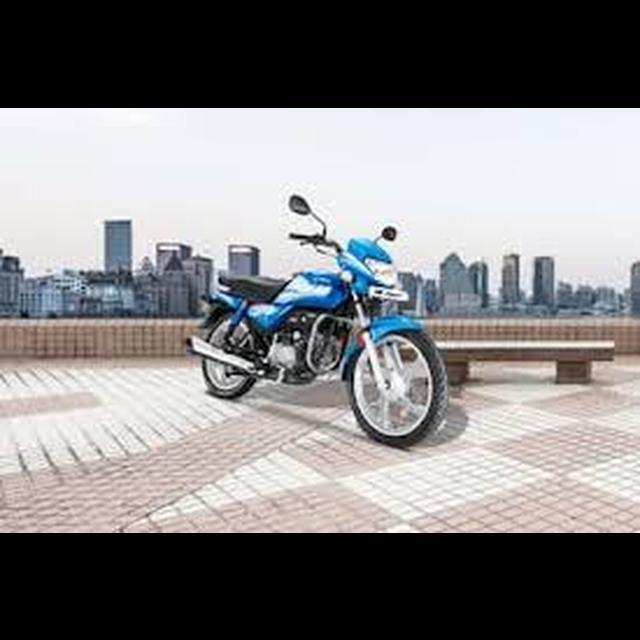motorcycle: (179, 189, 453, 452)
